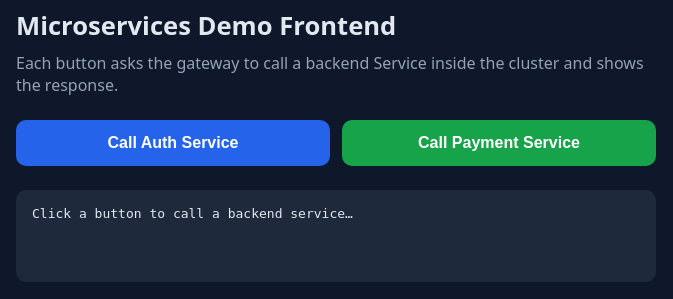
Test: App › shows a successful auth response
The width and height of the screenshot is (673, 299).
What coordinates should you click on to do the following:
click the button "Call Auth Service"
I would click on:
 (173, 143)
Its box is [16,120,330,166].
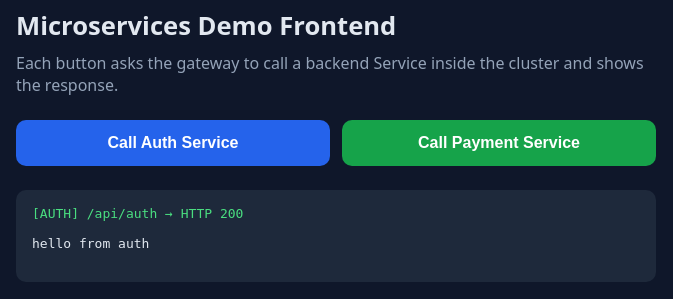
Now the text "[AUTH] /api/auth → HTTP 200 hello from auth" is shown, box [16,190,656,282]
Now the text "[AUTH] /api/auth → HTTP 200" is shown, box [32,206,243,221]
